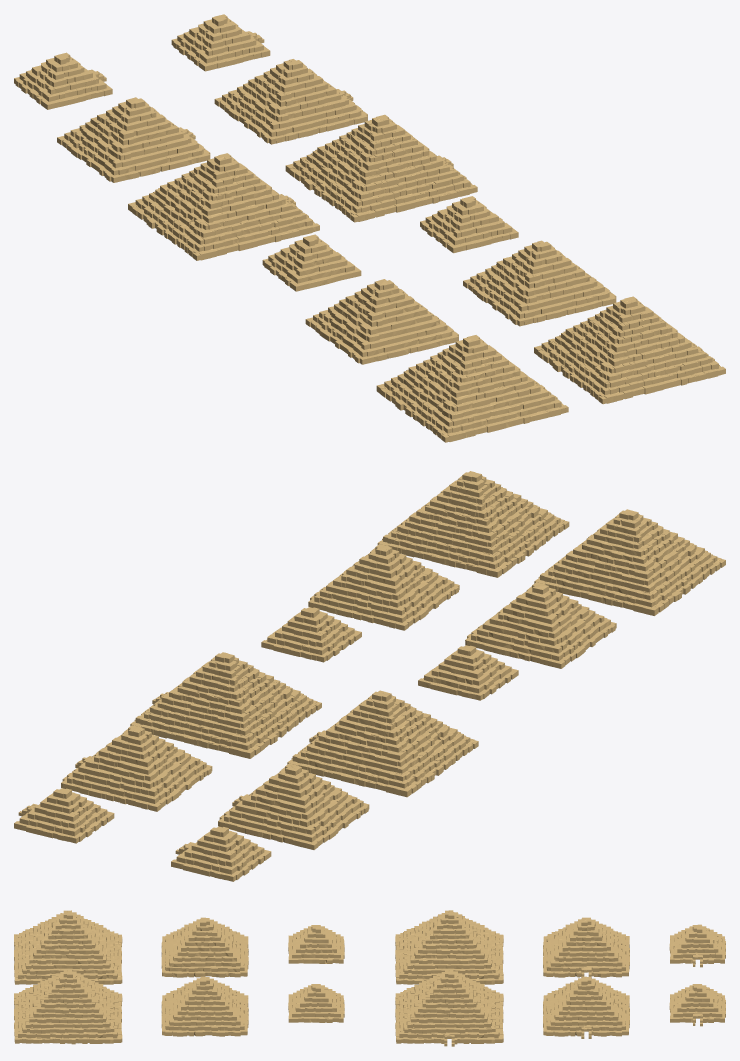
The model's file is Low-Poly Pyramids.fbx.
The picture shows the model from 3 angles, top to bottom: view 1: azimuth 30°, elevation 25°; view 2: azimuth 150°, elevation 25°; view 3: azimuth 270°, elevation 25°; orthographic projection. The views are drawn at different scales.
Parts seen in each view (by area): view 1: Pyramid_Large_Entrance, Pyramid_Large_Entrance_LowDetail, Pyramid_Large, Pyramid_Large_LowDetail, Pyramid_Medium_Entrance, Pyramid_Medium_Entrance_LowDetail, Pyramid_Medium, Pyramid_Medium_LowDetail, Pyramid_Small_Entrance, Pyramid_Small_Entrance_LowDetail, Pyramid_Small_LowDetail, Pyramid_Small; view 2: Pyramid_Large_Entrance, Pyramid_Large_Entrance_LowDetail, Pyramid_Large, Pyramid_Large_LowDetail, Pyramid_Medium_Entrance, Pyramid_Medium_Entrance_LowDetail, Pyramid_Medium, Pyramid_Medium_LowDetail, Pyramid_Small_Entrance_LowDetail, Pyramid_Small_Entrance, Pyramid_Small_LowDetail, Pyramid_Small; view 3: Pyramid_Large_Entrance, Pyramid_Large, Pyramid_Large_Entrance_LowDetail, Pyramid_Large_LowDetail, Pyramid_Medium, Pyramid_Medium_LowDetail, Pyramid_Medium_Entrance, Pyramid_Medium_Entrance_LowDetail, Pyramid_Small_LowDetail, Pyramid_Small, Pyramid_Small_Entrance_LowDetail, Pyramid_Small_Entrance.
Boxes of the visible parts, x1,y1,x2,y2 form: Pyramid_Large_Entrance: (285,114,477,222); Pyramid_Large_Entrance_LowDetail: (128,153,319,260); Pyramid_Large: (534,296,725,404); Pyramid_Large_LowDetail: (376,335,568,442); Pyramid_Medium_Entrance: (214,59,367,144); Pyramid_Medium_Entrance_LowDetail: (57,97,210,182); Pyramid_Medium: (463,240,616,326); Pyramid_Medium_LowDetail: (305,279,458,364); Pyramid_Small_Entrance: (171,14,270,71); Pyramid_Small_Entrance_LowDetail: (14,52,112,109); Pyramid_Small_LowDetail: (262,234,361,291); Pyramid_Small: (420,196,518,253); Pyramid_Large_Entrance: (130,652,321,758); Pyramid_Large_Entrance_LowDetail: (287,690,478,797); Pyramid_Large: (377,471,569,577); Pyramid_Large_LowDetail: (534,509,725,615); Pyramid_Medium_Entrance: (61,725,212,811); Pyramid_Medium_Entrance_LowDetail: (218,763,369,849); Pyramid_Medium: (308,544,459,630); Pyramid_Medium_LowDetail: (465,582,616,668); Pyramid_Small_Entrance_LowDetail: (171,826,271,881); Pyramid_Small_Entrance: (14,788,114,843); Pyramid_Small_LowDetail: (418,645,518,700); Pyramid_Small: (261,607,361,662); Pyramid_Large_Entrance: (395,969,503,1046); Pyramid_Large: (14,969,122,1044); Pyramid_Large_Entrance_LowDetail: (395,910,503,984); Pyramid_Large_LowDetail: (14,910,122,984); Pyramid_Medium: (161,976,248,1036); Pyramid_Medium_LowDetail: (161,917,248,977); Pyramid_Medium_Entrance: (543,976,629,1038); Pyramid_Medium_Entrance_LowDetail: (543,917,629,978); Pyramid_Small_LowDetail: (288,925,344,963); Pyramid_Small: (288,984,344,1022); Pyramid_Small_Entrance_LowDetail: (669,924,725,967); Pyramid_Small_Entrance: (669,984,725,1026).
Bounding box in the file's own units: 20852 × 4384 × 57853.
